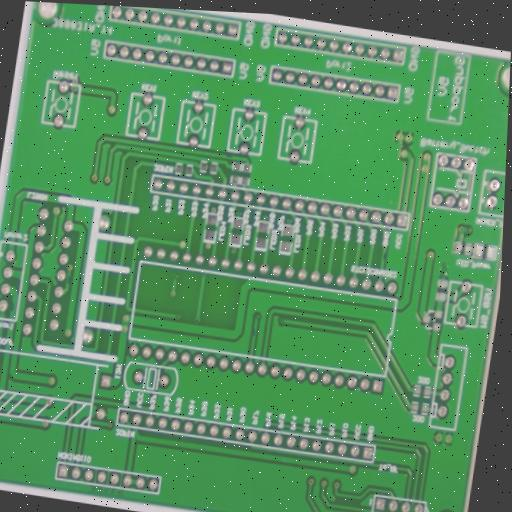mouse_bite: (7, 297, 19, 316), (63, 272, 76, 288), (380, 248, 391, 265), (222, 149, 236, 162), (249, 324, 259, 340)
